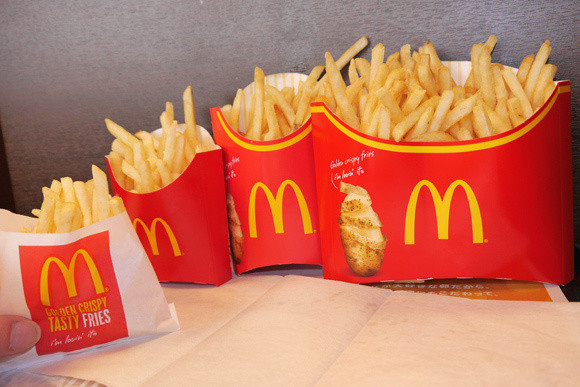mcdonalds: (401, 175, 504, 258), (241, 173, 316, 247), (32, 247, 110, 312)
